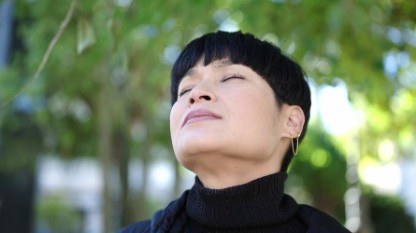闭眼: (213, 66, 251, 84), (172, 78, 201, 98)
